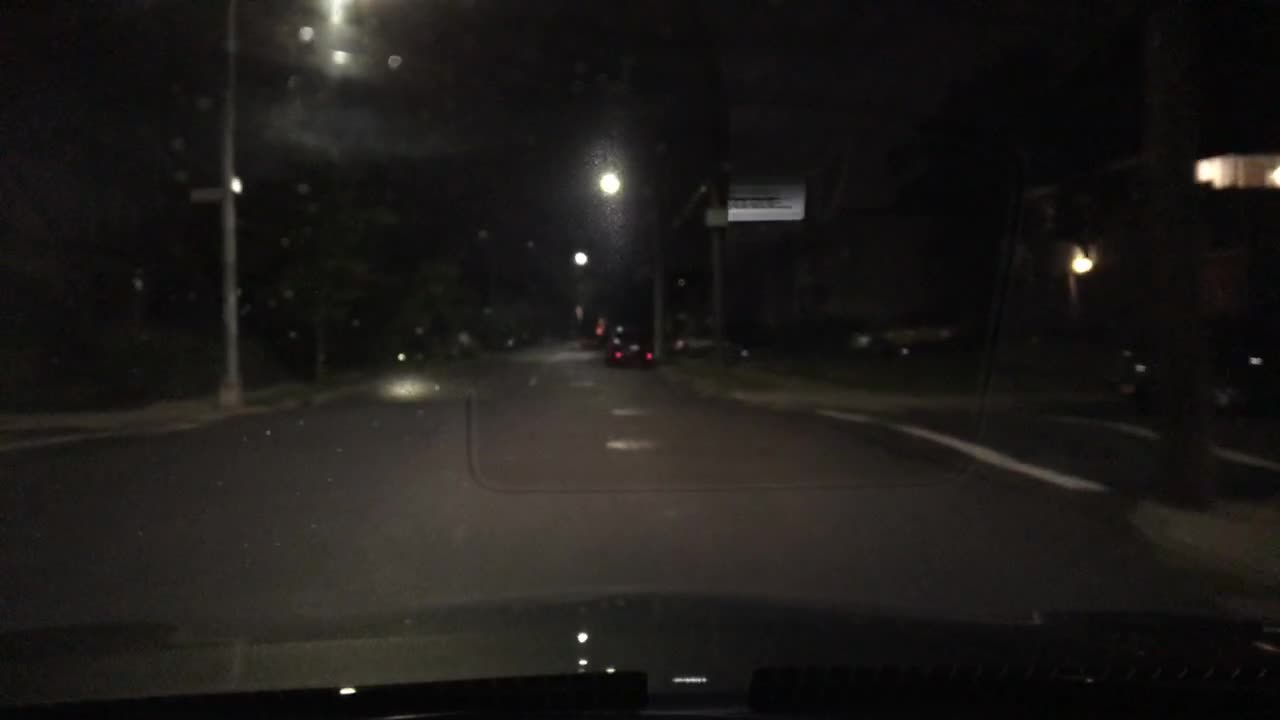car: (1100, 311, 1279, 422), (849, 320, 959, 356), (670, 325, 751, 360), (607, 327, 657, 369), (591, 320, 608, 340)
traffic sign: (729, 183, 805, 222), (187, 186, 225, 202), (704, 205, 731, 227), (231, 176, 244, 195)
